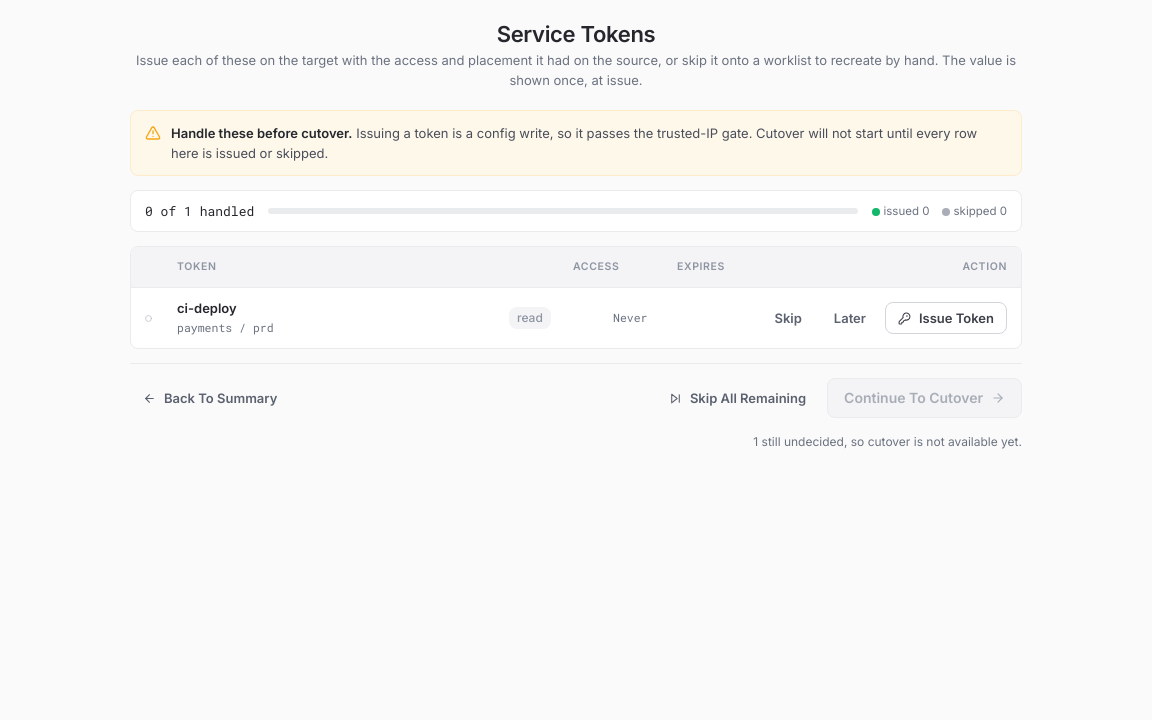
Test case: ServiceTokenReportPage › issuing › says when an expiry could not be reproduced
This screenshot has width=1152, height=720.
What coordinates should you click on to do the following:
click the button "Issue Token"
I would click on:
 (946, 318)
Its box is top-left (885, 302), bottom-right (1007, 334).
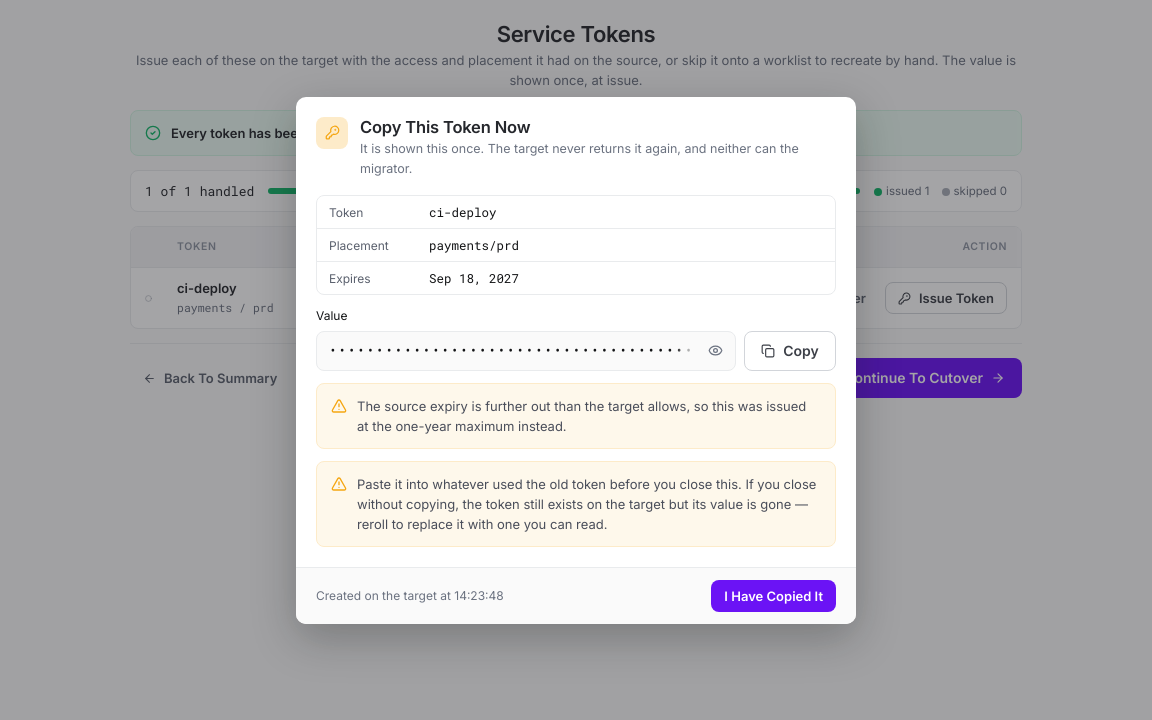
expect the text "issued at the one-year maximum" is shown: met, box top-left (357, 398), bottom-right (806, 434)
